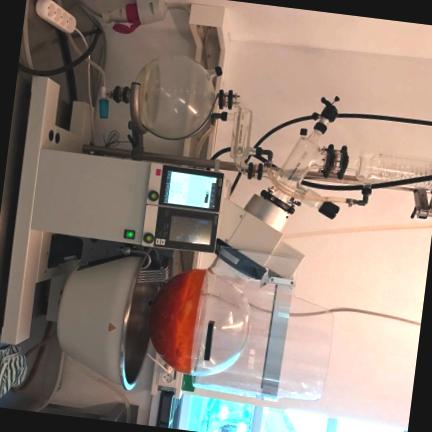container: (149, 269, 250, 375), (132, 55, 216, 140)
fluid: (149, 271, 206, 374), (132, 64, 151, 126)
fluid-surface: (189, 270, 206, 373), (141, 64, 158, 130)
